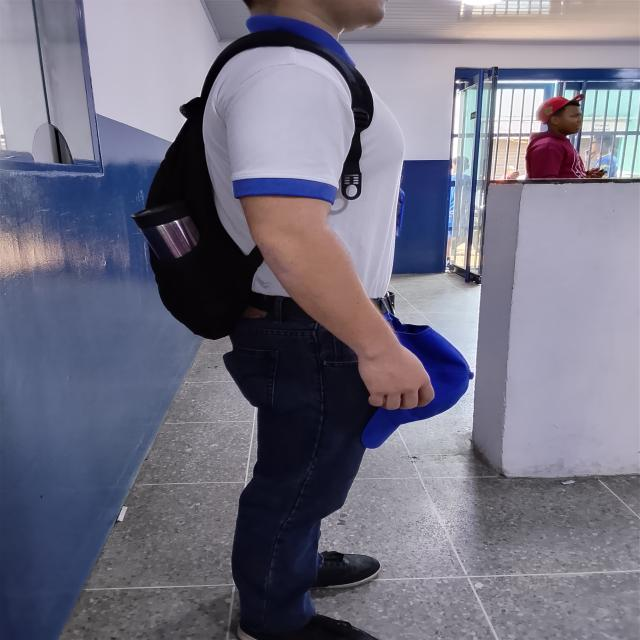carnet: (395, 188, 405, 238)
uniforme_superior: (201, 13, 406, 300)
